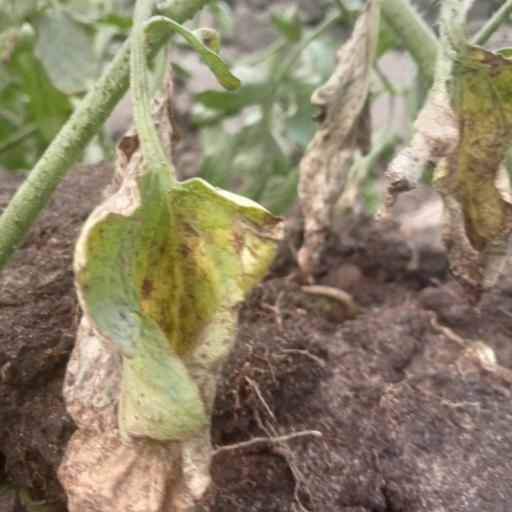Tomato_Brown_Spots: (53, 97, 296, 512), (373, 0, 512, 263)
